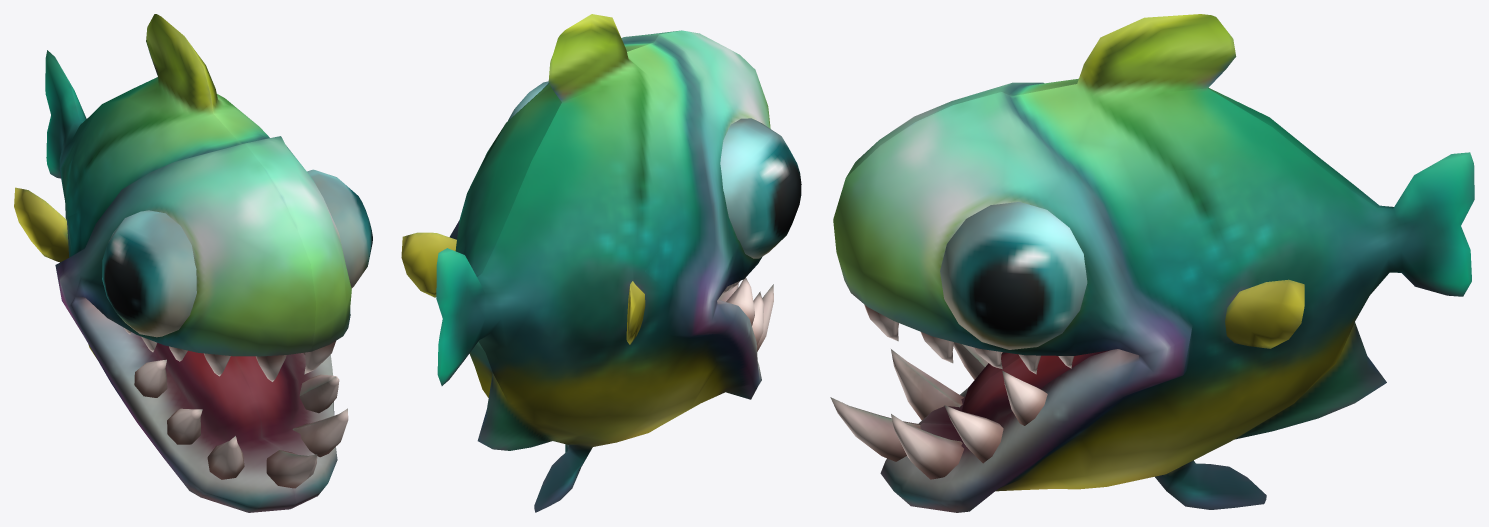
3 views of the same model, side by side, from view 1: azimuth 30°, elevation 25°; view 2: azimuth 150°, elevation 25°; view 3: azimuth 270°, elevation 25° (orthographic). The views are drawn at different scales.
Parts seen in each view (by area): view 1: sry_son_0; view 2: sry_son_0; view 3: sry_son_0.
Boxes of the visible parts, <box> form: sry_son_0: <box>14,14,372,512</box>; sry_son_0: <box>401,14,801,512</box>; sry_son_0: <box>830,14,1474,512</box>.
Size of the model in its own units: 0.0588 by 0.0938 by 0.1104.
Materials: 1 (1 with a texture image).
